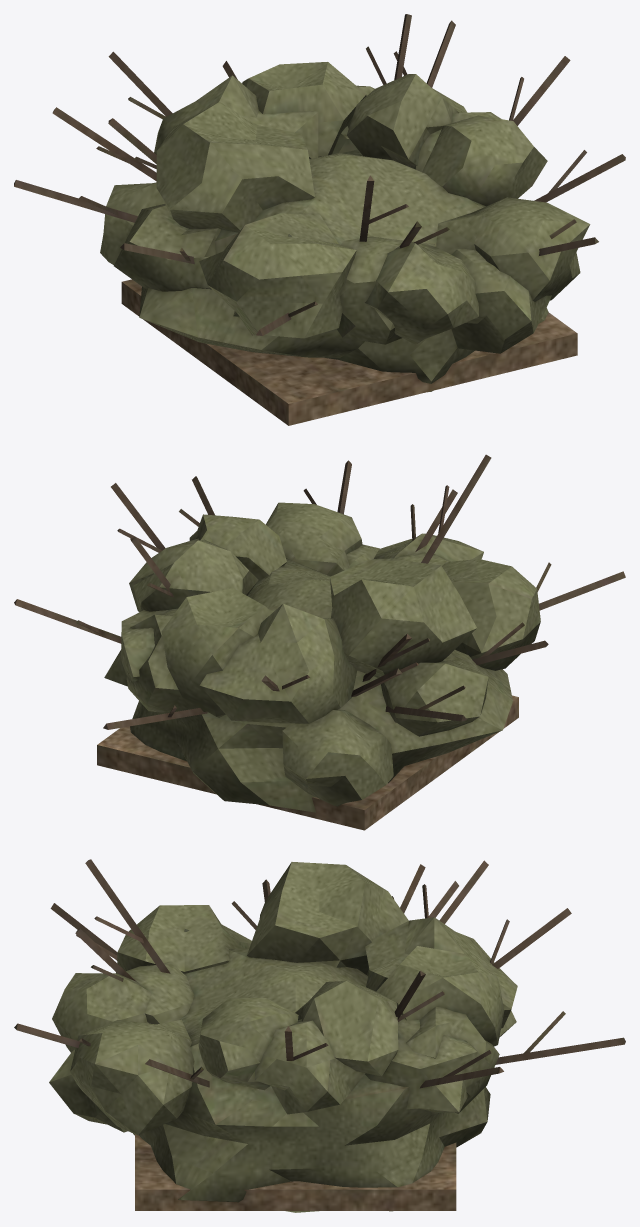
The model's file is scrub.glb.
3 views of the same model, one above another, from view 1: azimuth 30°, elevation 25°; view 2: azimuth 150°, elevation 25°; view 3: azimuth 270°, elevation 25° (orthographic). The views are drawn at different scales.
Visible parts, largest first — view 1: Scrub; view 2: Scrub; view 3: Scrub.
Boxes of the visible parts, bbox=[...] form: Scrub: bbox=[14, 14, 625, 425]; Scrub: bbox=[14, 454, 625, 830]; Scrub: bbox=[14, 859, 625, 1212].
Size of the model in its own units: 1.79 by 1.04 by 2.1.
1 material, 1 textured.
